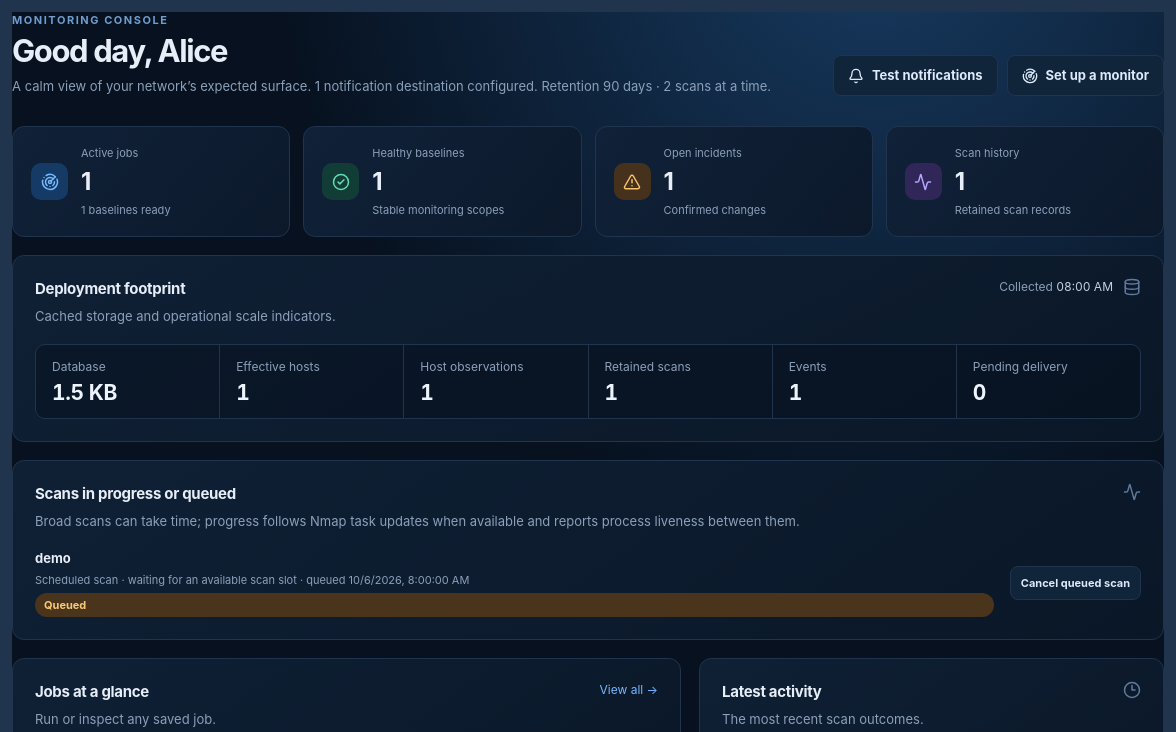
Test: dashboard › reports a queued run that could no longer be canceled
The image size is (1176, 732).
Click the button "Cancel queued scan" at (1075, 583), box [1010,566,1141,600]
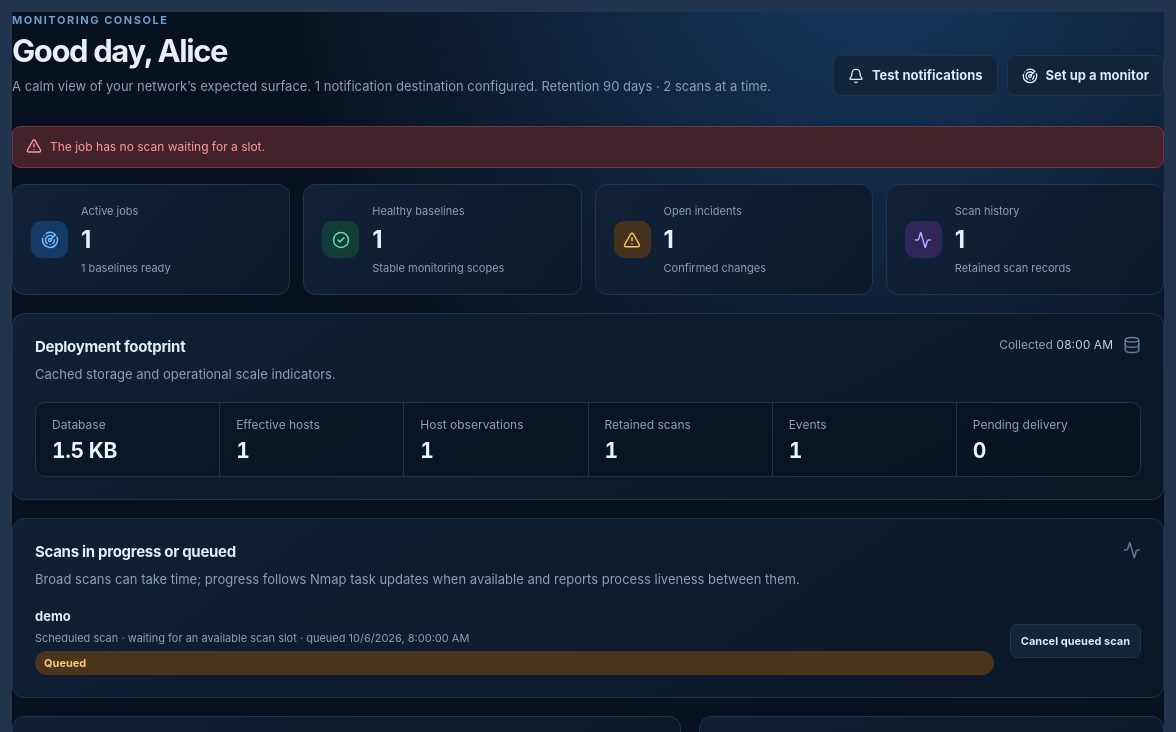
Result: the message "The job has no scan waiting for a slot." is shown at [12,126,1164,168]
